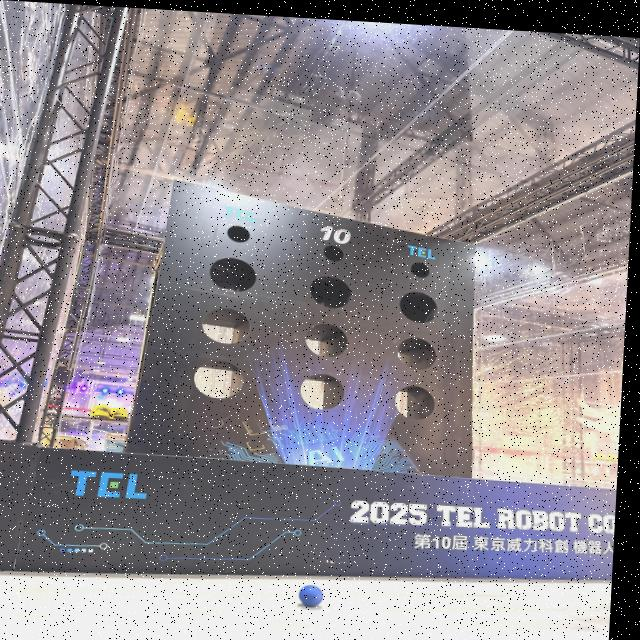hole: (194, 359, 245, 400), (202, 306, 253, 346), (208, 256, 258, 294), (300, 372, 345, 411), (304, 323, 349, 359), (309, 274, 352, 309), (394, 386, 436, 421), (396, 336, 437, 370), (399, 291, 438, 324), (226, 225, 251, 244), (322, 245, 345, 262), (411, 262, 431, 279)
